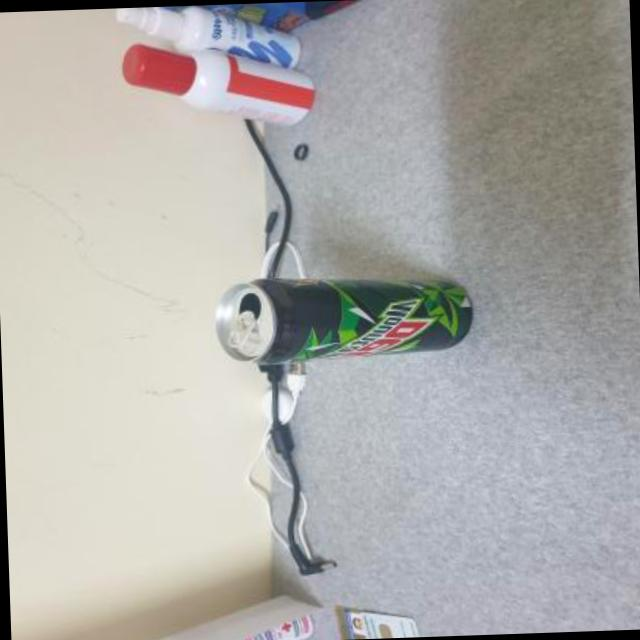metal: (213, 276, 468, 359)
